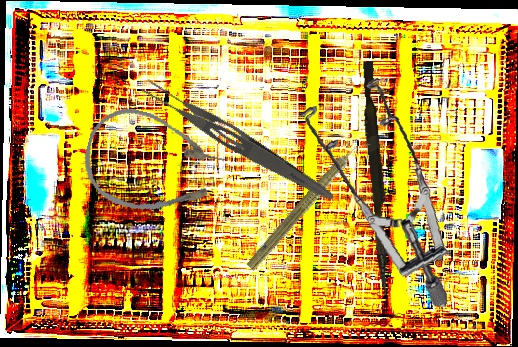Cannula: (74, 99, 233, 229)
Dressing Forceps: (136, 74, 341, 206)
Handpiece: (244, 132, 372, 276)
Pusher: (356, 60, 398, 296)
Speculum: (278, 69, 473, 308)
